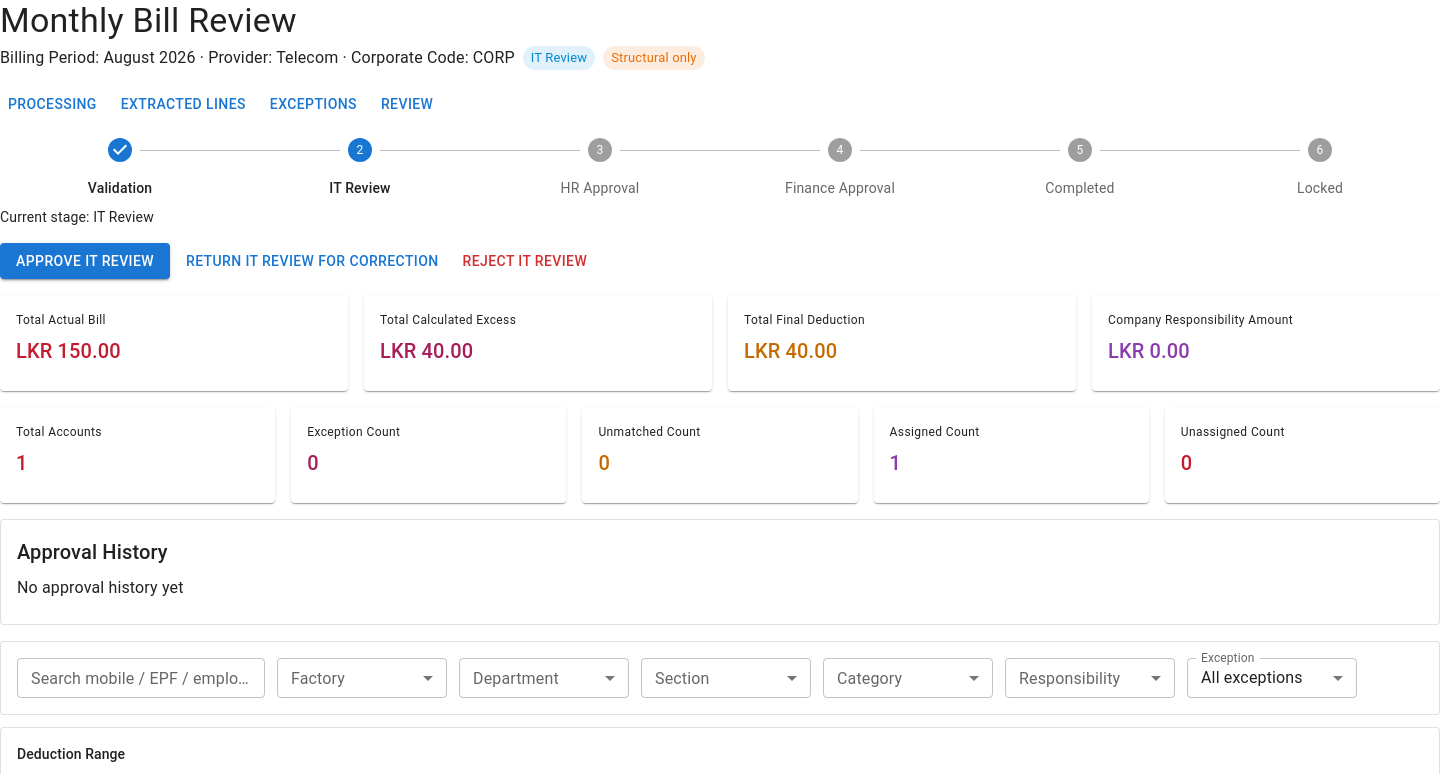
Test: MonthlyBillReviewPage workflow and reporting › Reject IT Review requires a meaningful reason before sending
The image size is (1440, 774).
What coordinates should you click on to do the following:
click the button "Reject IT Review"
I would click on:
 (525, 261)
Its box is [455,242,595,279].
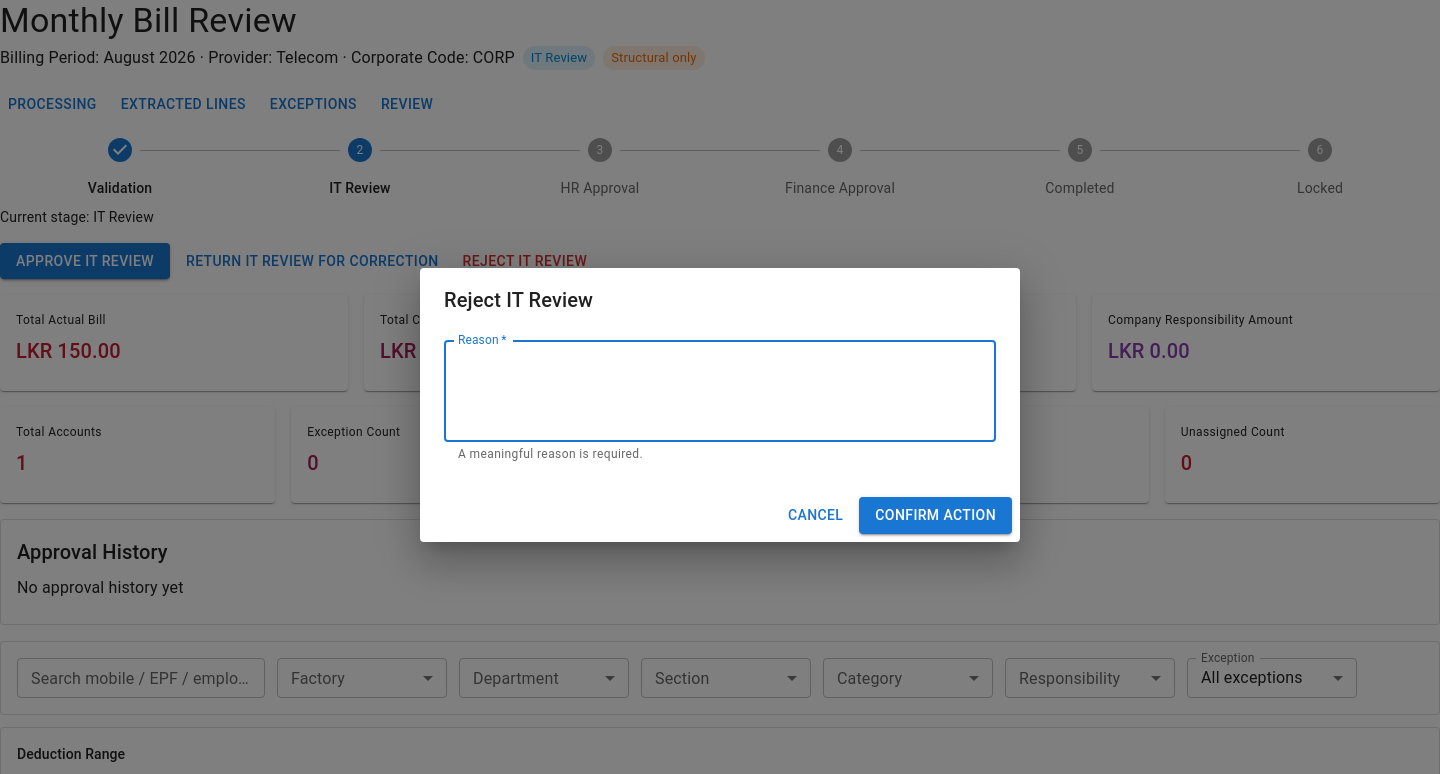
What coordinates should you click on to do the following:
click the button "Confirm Action"
I would click on:
 (936, 515)
Its box is [859,497,1012,534].
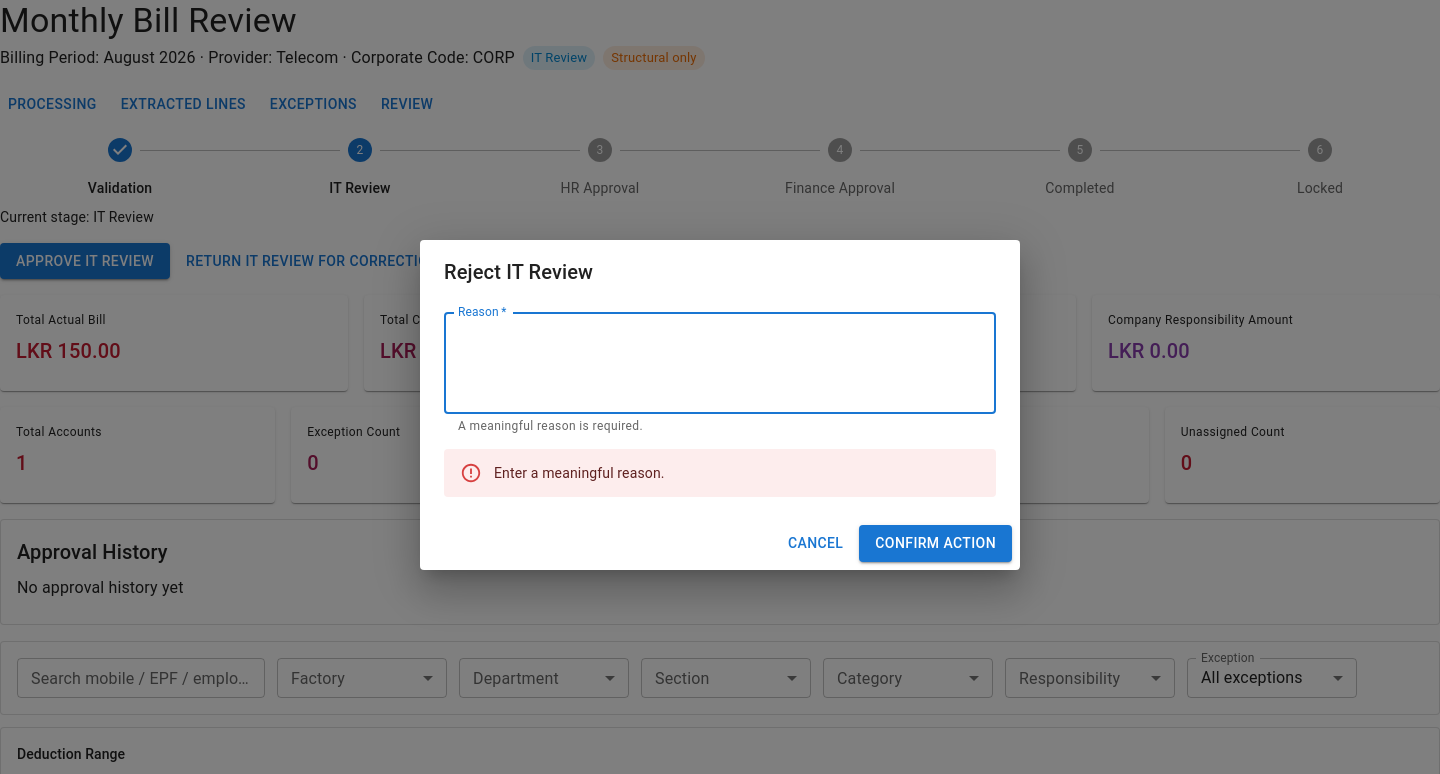
expect the text "Enter a meaningful reason." is shown: met, box [494,465,665,481]
